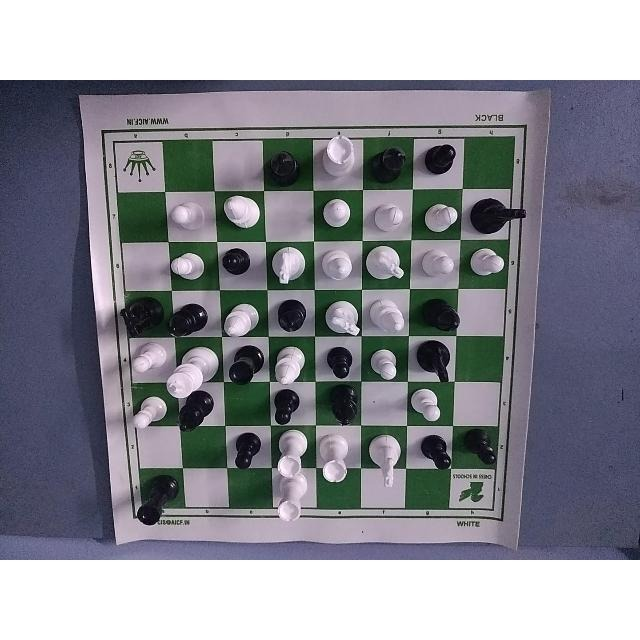black-bishop: (264, 139, 308, 190), (167, 290, 214, 337), (173, 398, 219, 439), (367, 141, 407, 184), (420, 295, 465, 332), (324, 385, 361, 429), (273, 292, 310, 334)
black-knight: (117, 283, 165, 337), (473, 188, 528, 234), (418, 337, 452, 383)
black-pawn: (226, 423, 262, 469), (461, 427, 499, 470), (423, 136, 460, 176), (418, 429, 453, 470), (267, 387, 300, 425), (324, 345, 357, 381), (219, 244, 250, 277)
black-rook: (135, 472, 183, 528), (228, 344, 268, 389)
white-bishop: (220, 188, 264, 236), (222, 303, 264, 343), (273, 342, 311, 386), (369, 292, 405, 338), (314, 243, 354, 283)
white-king: (169, 352, 221, 392)
white-knight: (362, 430, 406, 488), (267, 244, 310, 288), (322, 298, 361, 340), (368, 242, 403, 286)
white-pawn: (166, 195, 207, 237), (468, 245, 508, 287), (420, 196, 462, 235), (369, 341, 405, 383), (131, 392, 167, 433), (409, 384, 443, 426), (169, 245, 204, 283), (320, 195, 351, 233), (371, 201, 405, 235), (132, 344, 165, 376), (423, 251, 456, 283)
white-rook: (320, 133, 358, 185), (272, 479, 312, 526), (320, 434, 352, 488), (274, 430, 309, 474)
